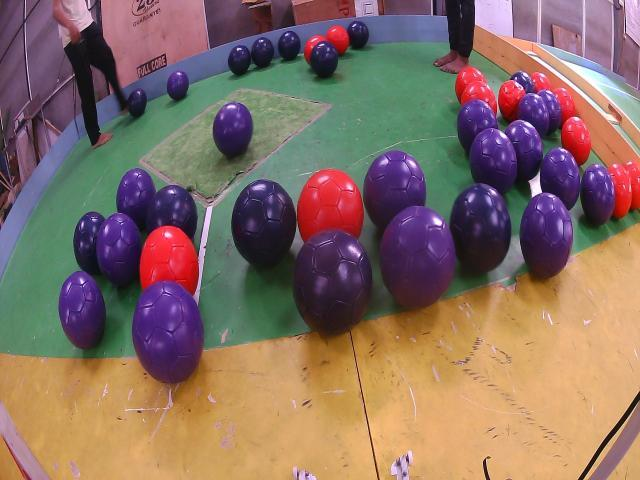jambhalya: (292, 228, 372, 335), (380, 205, 456, 308), (132, 280, 204, 383), (362, 150, 426, 230), (520, 193, 574, 278), (59, 270, 105, 349), (96, 213, 142, 287), (470, 128, 518, 195), (540, 147, 580, 210), (116, 168, 156, 230), (212, 102, 252, 158), (505, 120, 542, 180), (458, 98, 499, 152), (580, 163, 615, 225), (518, 93, 550, 138), (538, 90, 561, 132), (166, 70, 189, 100)
kaalyya: (231, 180, 296, 267), (450, 183, 511, 272), (146, 185, 198, 240), (74, 212, 105, 275), (310, 40, 339, 78), (251, 37, 274, 68), (228, 45, 251, 75), (278, 32, 300, 60), (348, 20, 369, 48), (128, 88, 148, 117), (510, 70, 535, 93)
